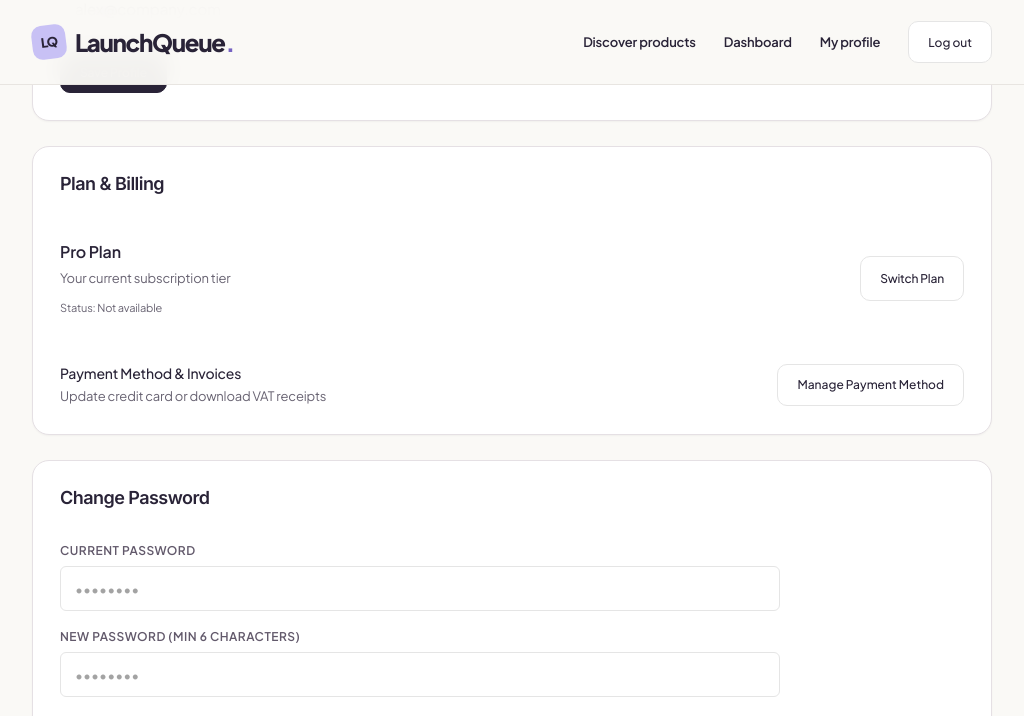
Test: Profile Page › shows message when founder does not have an active subscription
(page scrolled)
Click the button "Manage Payment Method" at {"x": 871, "y": 385}, box [778,364,964,406]
(page scrolled)
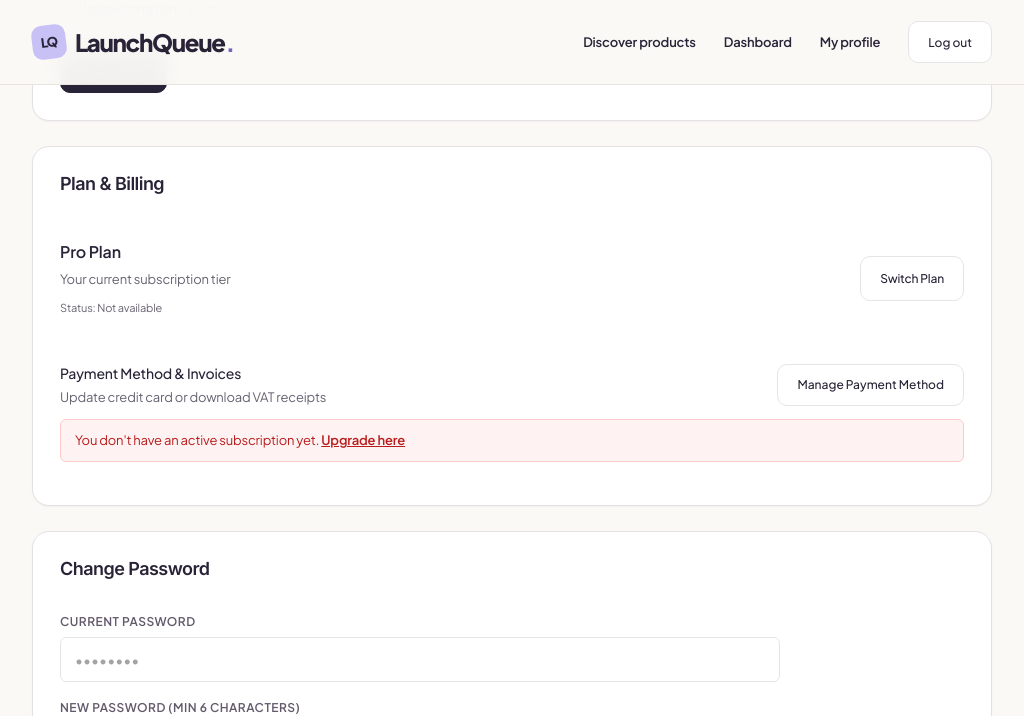
Expected: the text "You don't have an active subscription yet. Upgrade here" is shown, [60,419,964,462]
